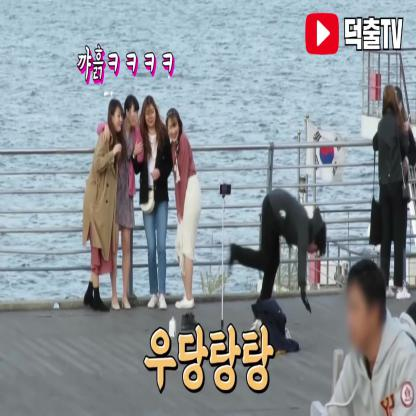Fall_Down: (226, 183, 330, 331)
